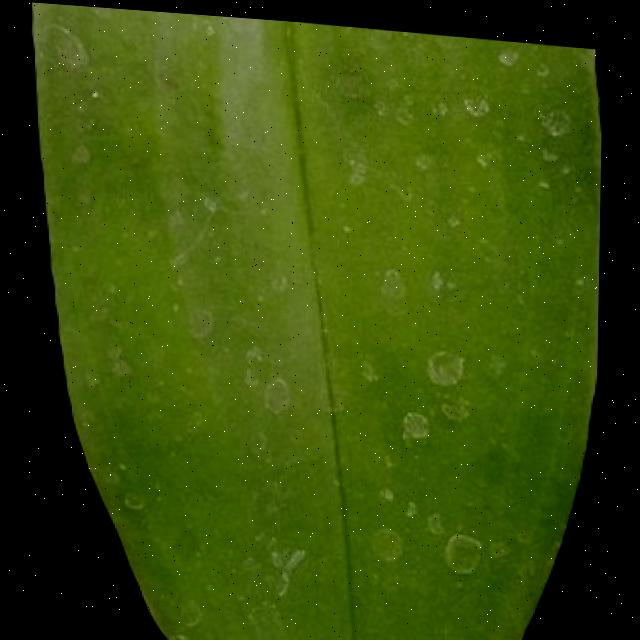mite: (40, 18, 93, 72), (442, 522, 485, 570), (424, 337, 468, 382), (377, 257, 413, 310), (371, 517, 407, 559), (537, 93, 573, 131), (263, 368, 293, 413), (401, 399, 433, 439), (120, 485, 151, 515)
spots: (15, 2, 606, 640)
